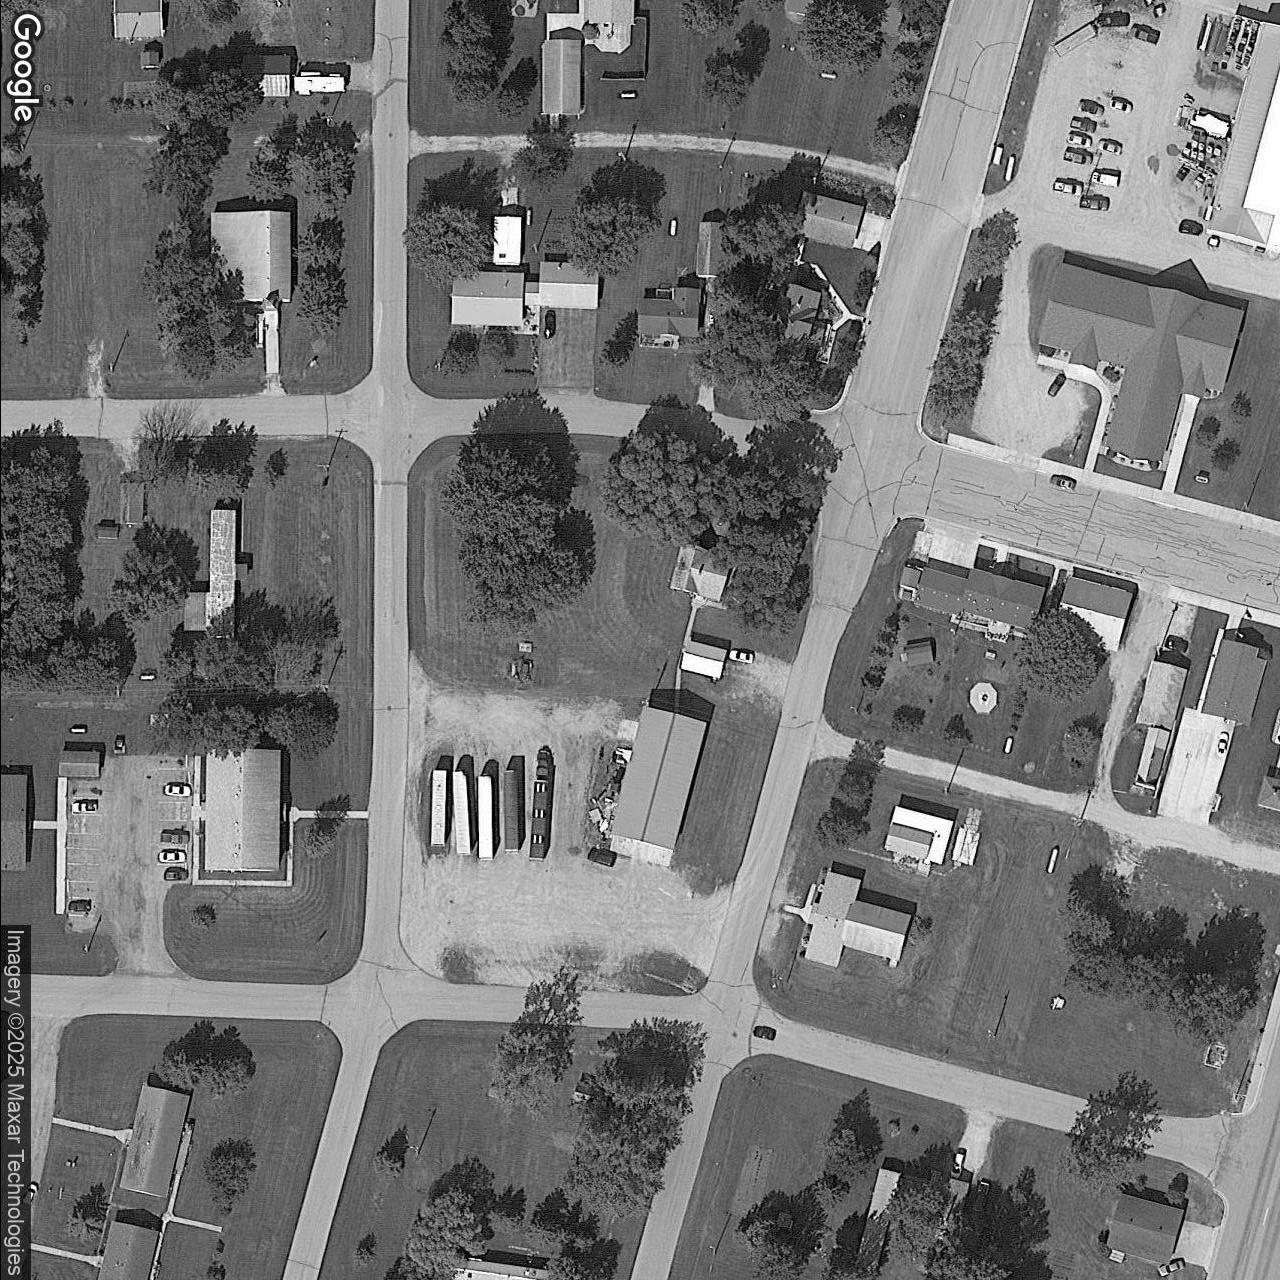Garage: (789, 191, 864, 250), (883, 805, 953, 865), (1136, 661, 1187, 729), (1133, 728, 1169, 790), (679, 640, 726, 679), (492, 217, 520, 266), (115, 482, 143, 524), (59, 751, 98, 777)
House: (1037, 263, 1244, 461), (608, 707, 706, 851), (804, 871, 911, 968), (450, 261, 598, 327), (204, 748, 279, 872), (914, 567, 1044, 631), (118, 1084, 190, 1198), (209, 211, 290, 304), (1049, 576, 1132, 652), (1104, 1192, 1184, 1266), (1199, 639, 1266, 726), (767, 282, 826, 369), (668, 539, 733, 601), (97, 1221, 158, 1279), (636, 288, 699, 338), (543, 40, 580, 115), (1, 775, 26, 871), (240, 54, 290, 97), (113, 0, 162, 39), (696, 222, 722, 278)
Other: (1204, 21, 1280, 253), (588, 1, 635, 26)
Propane: (1042, 844, 1061, 878), (1000, 152, 1017, 185), (999, 734, 1016, 757), (665, 216, 680, 239), (136, 672, 157, 682), (617, 90, 638, 101), (523, 206, 533, 227), (816, 72, 838, 81), (67, 726, 88, 735)
Trailer: (183, 510, 246, 640), (852, 1167, 899, 1275), (293, 73, 345, 96)
